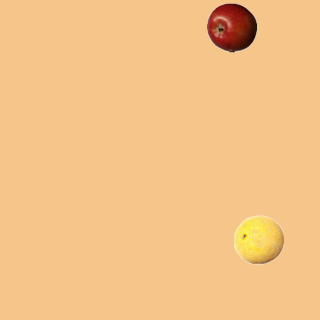Apple Braeburn: (206, 2, 256, 52)
Cantaloupe 1: (233, 214, 283, 264)
